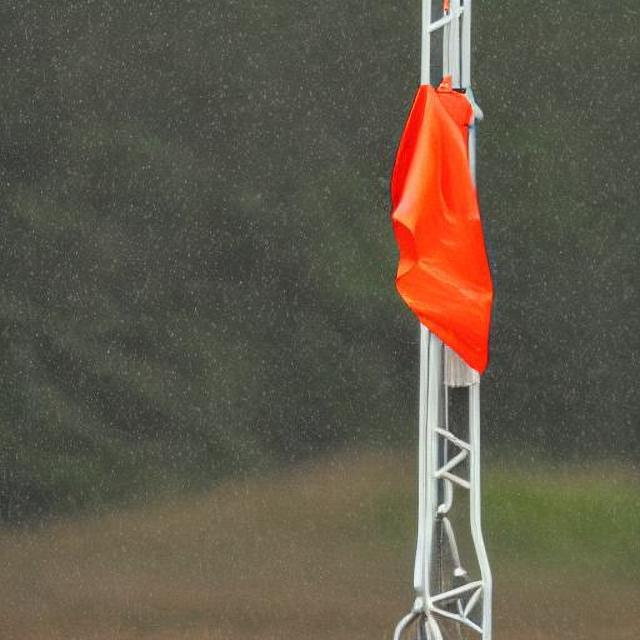plastic bag: (378, 66, 496, 380)
